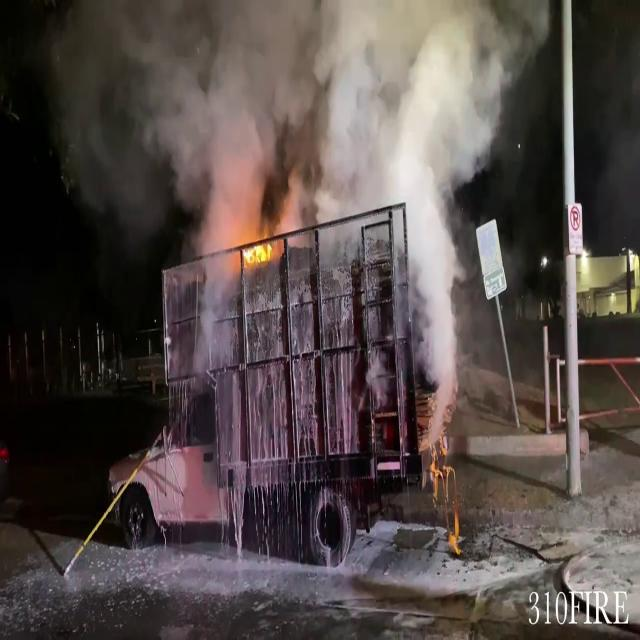Fire: (232, 224, 282, 274)
Smoke: (59, 0, 511, 244)
